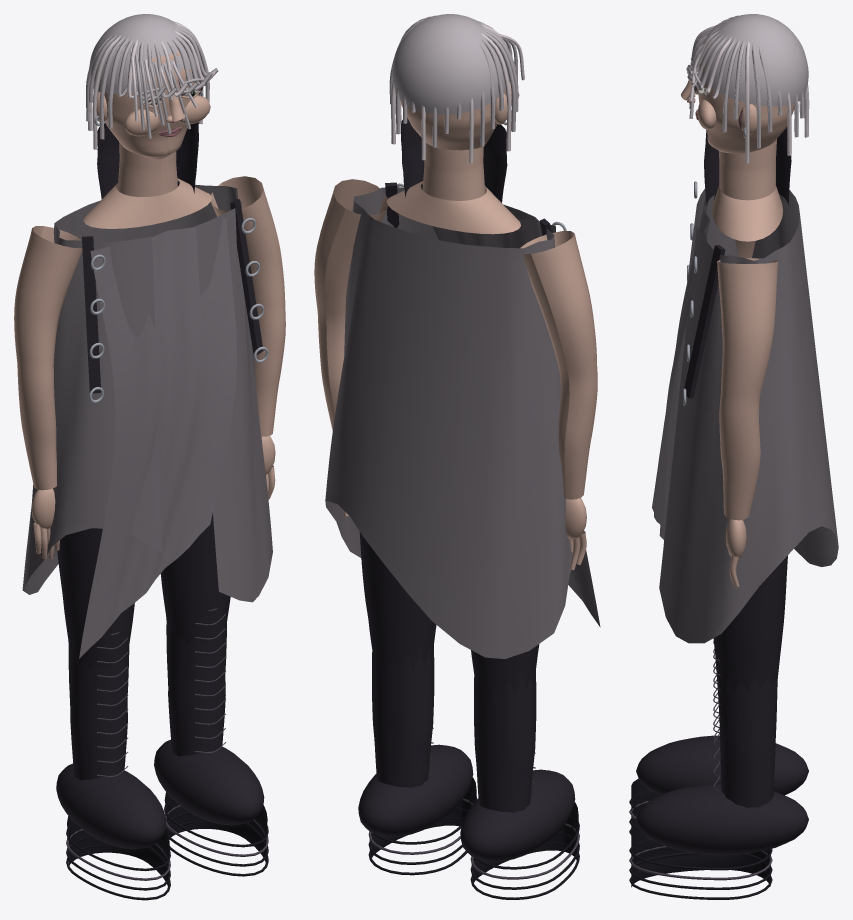
Rendered from look-7-detail.glb.
3 views of the same model, side by side, from view 1: azimuth 30°, elevation 25°; view 2: azimuth 150°, elevation 25°; view 3: azimuth 270°, elevation 25° (orthographic). The views are drawn at different scales.
Parts seen in each view (by area): view 1: look-7-detail, leg-1, leg-0, arm-0, arm-1; view 2: look-7-detail, leg-1, leg-0, arm-0, arm-1; view 3: look-7-detail, leg-1, arm-1, leg-0.
Boxes of the visible parts, x1,y1,x2,y2 form: look-7-detail: (22,14,272,658); leg-1: (154,512,268,876); leg-0: (56,528,170,900); arm-0: (14,226,82,559); arm-1: (211,176,285,499); look-7-detail: (325,14,600,658); leg-1: (358,532,477,875); leg-0: (460,644,579,899); arm-0: (520,231,597,569); arm-1: (314,179,387,516); look-7-detail: (652,14,838,643); leg-1: (629,555,808,899); arm-1: (717,258,777,588); leg-0: (629,648,808,834).
Size of the model in its own units: 0.6774 by 2.04 by 0.4597.
